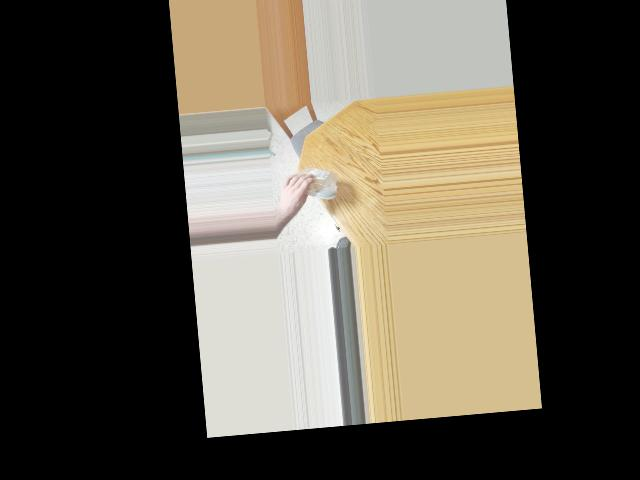cheese: (285, 167, 325, 203)
